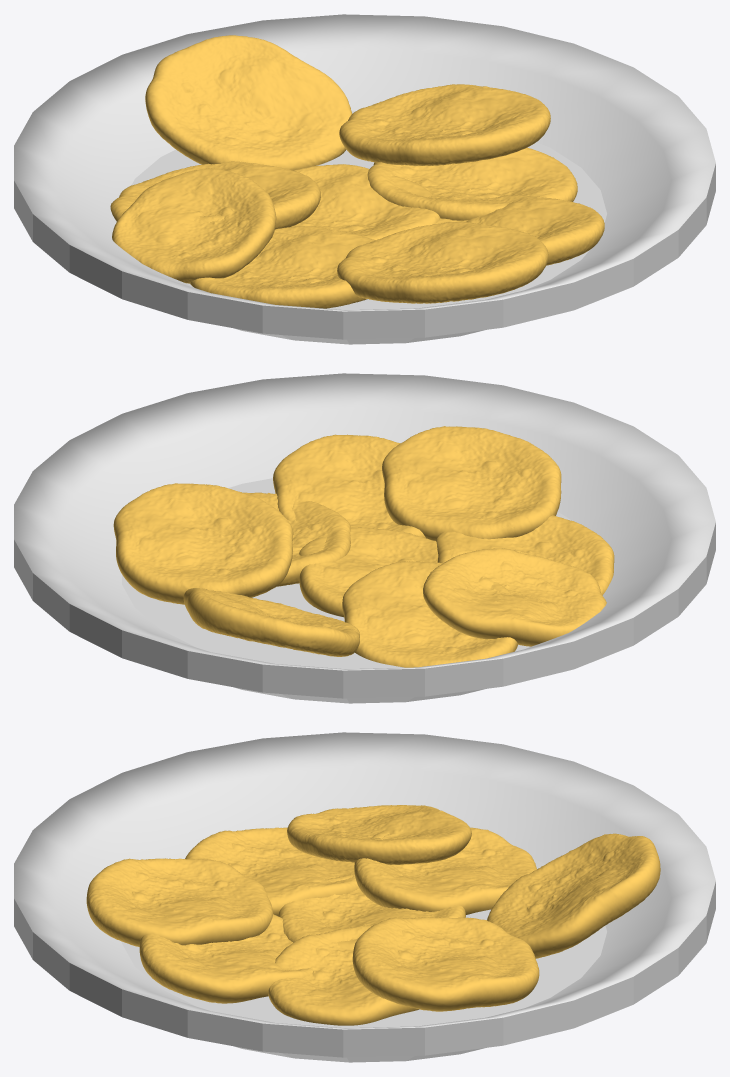
File: Cookies.glb
The picture shows the model from 3 angles, top to bottom: view 1: azimuth 30°, elevation 25°; view 2: azimuth 150°, elevation 25°; view 3: azimuth 270°, elevation 25°; orthographic projection.
Visible parts, largest first — view 1: Plate, Cookie.002, Cookie, Cookie.001, Cookie.005, Cookie.003, Cookie.006, Cookie.007, Cookie.008, Cookie.004; view 2: Plate, Cookie.001, Cookie.005, Cookie, Cookie.004, Cookie.008, Cookie.002, Cookie.007, Cookie.006, Cookie.003; view 3: Plate, Cookie.001, Cookie.005, Cookie.002, Cookie.004, Cookie, Cookie.008, Cookie.003, Cookie.006, Cookie.007.
Part boxes in pixels (<box>): Plate: <box>14,14,715,344</box>; Cookie.002: <box>145,35,352,170</box>; Cookie: <box>112,168,276,283</box>; Cookie.001: <box>339,84,550,165</box>; Cookie.005: <box>337,221,548,303</box>; Cookie.003: <box>367,147,577,220</box>; Cookie.006: <box>190,226,375,308</box>; Cookie.007: <box>272,164,440,240</box>; Cookie.008: <box>435,195,604,265</box>; Cookie.004: <box>110,161,320,229</box>; Plate: <box>14,373,715,703</box>; Cookie.001: <box>113,483,293,604</box>; Cookie.005: <box>382,426,561,540</box>; Cookie: <box>423,548,606,646</box>; Cookie.004: <box>342,561,517,667</box>; Cookie.008: <box>273,434,434,537</box>; Cookie.002: <box>183,588,359,656</box>; Cookie.007: <box>299,527,438,617</box>; Cookie.006: <box>436,515,614,595</box>; Cookie.003: <box>243,492,350,586</box>; Plate: <box>14,732,715,1062</box>; Cookie.001: <box>352,917,539,1011</box>; Cookie.005: <box>86,858,273,946</box>; Cookie.002: <box>487,833,660,958</box>; Cookie.004: <box>354,827,537,914</box>; Cookie: <box>287,805,471,864</box>; Cookie.008: <box>139,914,313,1003</box>; Cookie.003: <box>268,924,419,1025</box>; Cookie.006: <box>185,827,359,915</box>; Cookie.007: <box>278,870,465,949</box>.
Size of the model in its own units: 1.32 by 0.2148 by 1.32.
